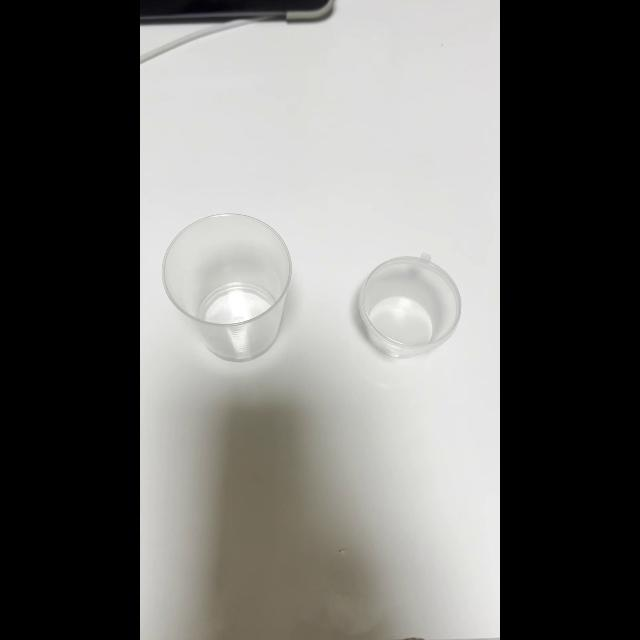clean: (161, 214, 303, 362), (358, 259, 458, 351)
